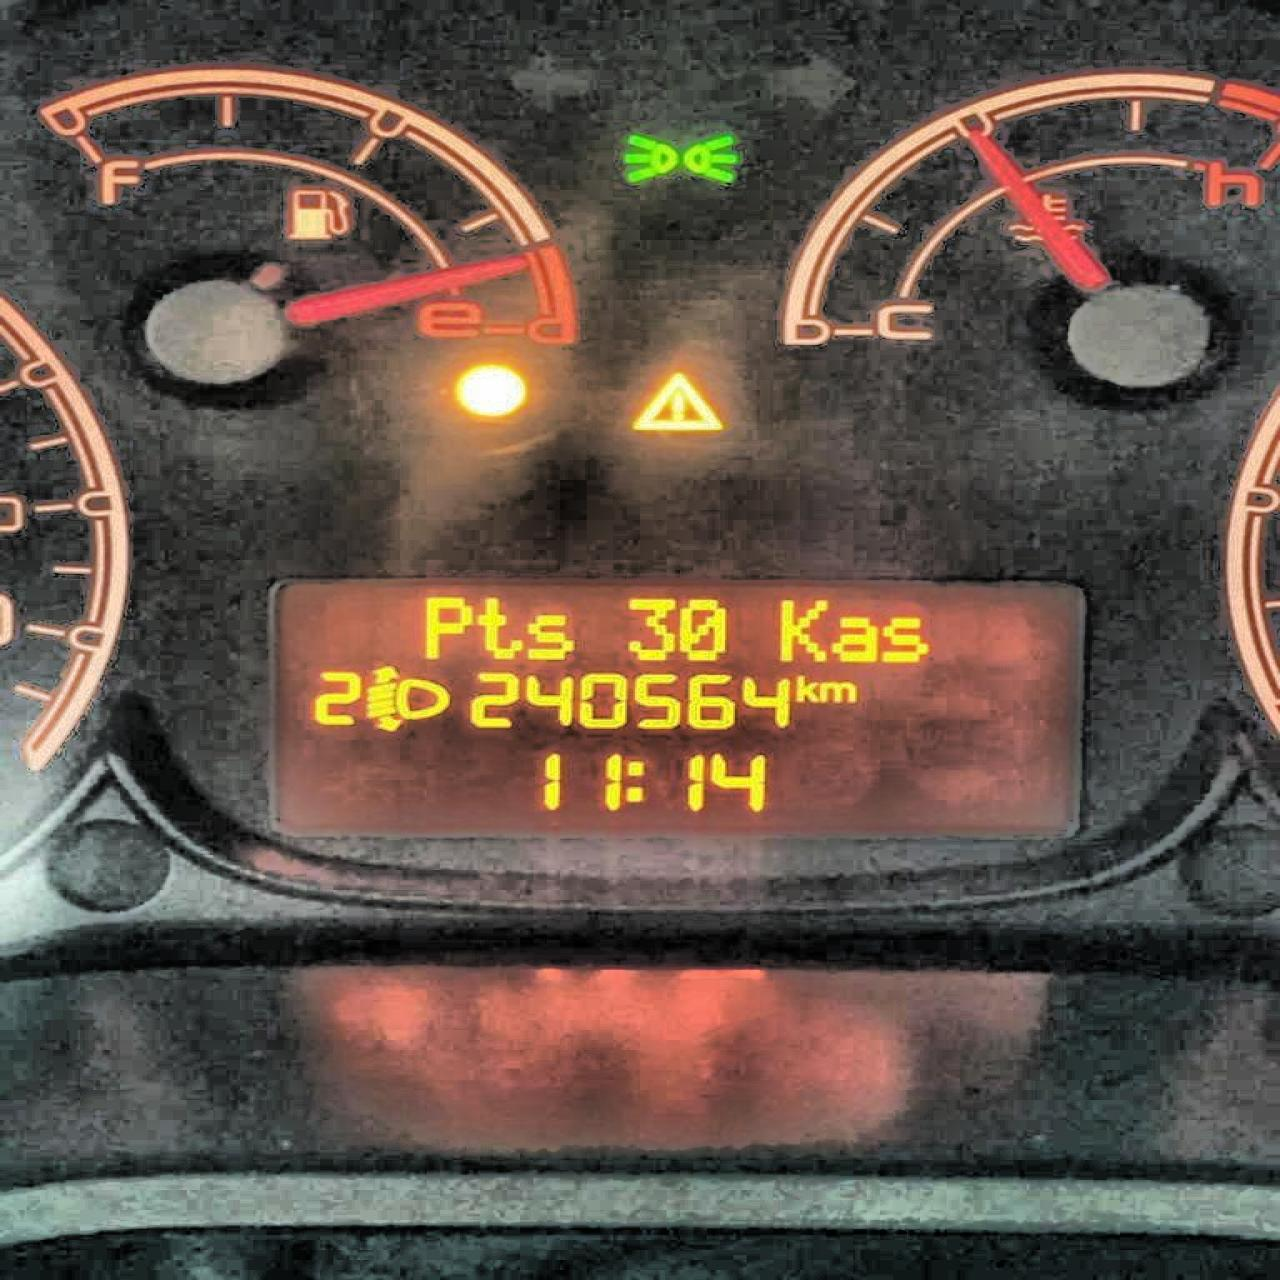0: (679, 594, 730, 661), (574, 669, 628, 730)
1: (532, 745, 565, 815), (597, 748, 621, 817), (679, 750, 703, 818)
2: (308, 665, 363, 734), (464, 663, 518, 733)
3: (625, 592, 675, 661)
4: (708, 750, 767, 811), (522, 670, 573, 726), (740, 672, 790, 728)
5: (632, 668, 680, 728)
6: (687, 673, 734, 730)
X: (422, 590, 474, 659), (778, 594, 829, 663), (471, 593, 522, 662), (522, 610, 577, 660), (880, 610, 930, 662), (831, 612, 877, 662), (625, 754, 648, 804), (818, 679, 857, 704), (795, 673, 817, 703)
odometer: (257, 564, 1098, 850)
